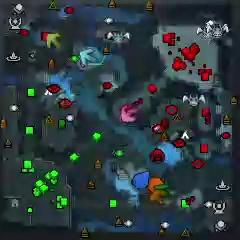p1: (132, 171, 151, 190)
p5: (148, 176, 164, 194)
x1: (120, 105, 140, 123)
x2: (46, 32, 62, 50)
x3: (79, 47, 96, 66)
x4: (154, 184, 169, 191)
x5: (149, 190, 168, 201)
